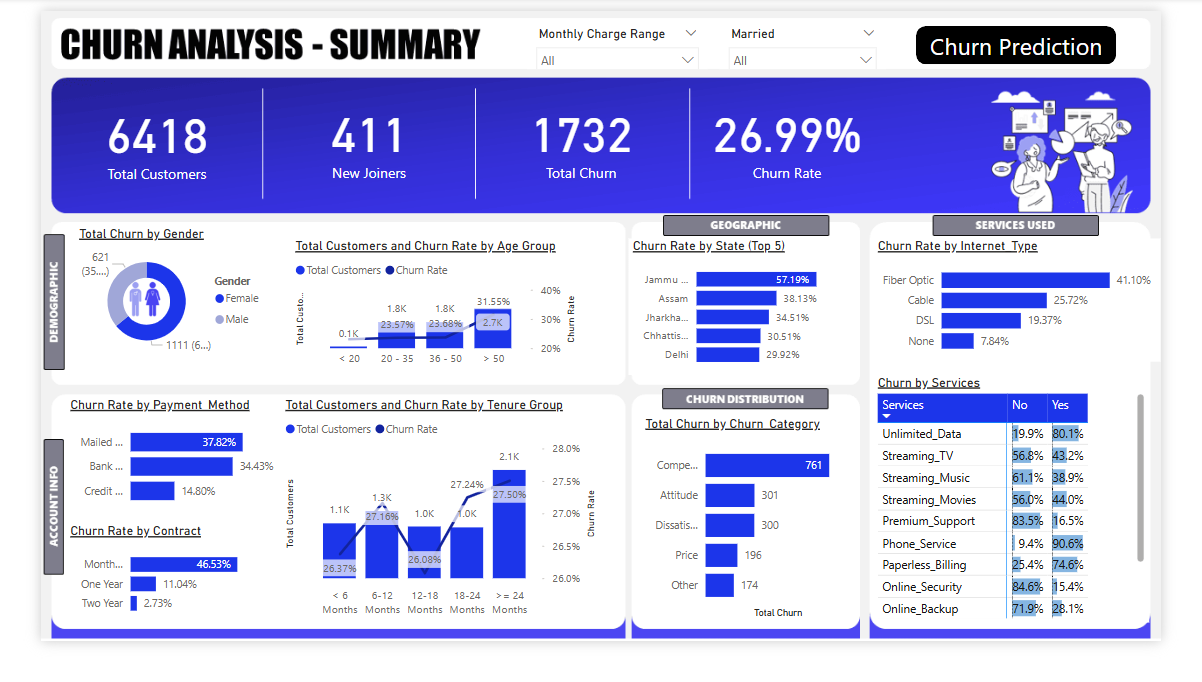

What the dashboard file says about the page in this screenshot:
{"tool":"powerbi","page":{"name":"Summary","canvas":[1280,720],"ordinal":0},"visuals":[{"type":"card","fields":{"Values":["tbl_measures.Total Customers"]},"box":[12.1,70,242.5,155.6],"z":3000},{"type":"card","fields":{"Values":["tbl_measures.New Joiners"]},"box":[254.6,74.8,241.3,144.8],"z":4000},{"type":"card","fields":{"Values":["tbl_measures.Total Churn"]},"box":[495.8,74.8,243.7,144.8],"z":5000},{"type":"donutChart","fields":{"Category":["prod_Churn.Gender"],"Y":["tbl_measures.Total Churn"]},"box":[38.6,246.1,225.6,155.6],"z":5500},{"type":"card","fields":{"Values":["tbl_measures.Churn Rate"]},"box":[739.5,74.8,225.6,144.8],"z":6000},{"type":"lineStackedColumnComboChart","fields":{"Category":["mapping_AgeGrp.Age Group"],"Y":["tbl_measures.Total Customers"],"Y2":["tbl_measures.Churn Rate"]},"box":[285.9,260.6,331.8,155.6],"z":8000},{"type":"clusteredBarChart","fields":{"Category":["prod_Churn.Payment_Method"],"Y":["tbl_measures.Churn Rate"]},"box":[29,441.6,244.9,135.1],"z":9000},{"type":"clusteredBarChart","fields":{"Category":["prod_Churn.Contract"],"Y":["tbl_measures.Churn Rate"]},"box":[29,585.1,244.9,114.6],"z":10000},{"type":"lineStackedColumnComboChart","fields":{"Category":["mapping_TenureGrp.Tenure Group"],"Y":["tbl_measures.Total Customers"],"Y2":["tbl_measures.Churn Rate"]},"box":[273.9,441.6,365.6,258.2],"z":11000},{"type":"clusteredBarChart","title":"Churn Rate by State (Top 5)","fields":{"Category":["prod_Churn.State"],"Y":["tbl_measures.Churn Rate"]},"box":[672,260.6,258.2,155.6],"z":12000},{"type":"clusteredBarChart","fields":{"Category":["prod_Churn.Churn_Category"],"Y":["tbl_measures.Total Churn"]},"box":[685.3,463.3,244.9,236.5],"z":13000},{"type":"clusteredBarChart","fields":{"Category":["prod_Churn.Internet_Type"],"Y":["tbl_measures.Churn Rate"]},"box":[951.9,260.6,328.2,141.2],"z":14000},{"type":"pivotTable","title":"Churn by Services","fields":{"Rows":["prod_Services.Services"],"Columns":["prod_Services.Status"],"Values":["Sum(prod_Services.Churn Status)"]},"box":[951.9,416.2,314.9,283.5],"z":15000},{"type":"slicer","fields":{"Values":["prod_Churn.Monthly Charge Status"]},"box":[555.7,12.3,205.8,53.5],"z":16000},{"type":"image","box":[85.7,299.2,66.4,60.3],"z":16500},{"type":"slicer","fields":{"Values":["prod_Churn.Married"]},"box":[775.3,12.3,189.4,53.5],"z":17000},{"type":"shape","box":[1000.3,17.8,229.2,43.9],"z":17001}]}

Visuals, with their boxes in screenshot pixels (x1, y1, x2, y2), scaled from the page's 1280x720 canvas onto the 1202x682 screenshot:
card - tbl_measures.Total Customers: x1=11, y1=66, x2=239, y2=214
card - tbl_measures.New Joiners: x1=239, y1=71, x2=466, y2=208
card - tbl_measures.Total Churn: x1=466, y1=71, x2=694, y2=208
donutChart - prod_Churn.Gender x tbl_measures.Total Churn: x1=36, y1=233, x2=248, y2=380
card - tbl_measures.Churn Rate: x1=694, y1=71, x2=906, y2=208
lineStackedColumnComboChart - mapping_AgeGrp.Age Group x tbl_measures.Total Customers: x1=268, y1=247, x2=580, y2=394
clusteredBarChart - prod_Churn.Payment_Method x tbl_measures.Churn Rate: x1=27, y1=418, x2=257, y2=546
clusteredBarChart - prod_Churn.Contract x tbl_measures.Churn Rate: x1=27, y1=554, x2=257, y2=663
lineStackedColumnComboChart - mapping_TenureGrp.Tenure Group x tbl_measures.Total Customers: x1=257, y1=418, x2=601, y2=663
"Churn Rate by State (Top 5)" clusteredBarChart: x1=631, y1=247, x2=874, y2=394
clusteredBarChart - prod_Churn.Churn_Category x tbl_measures.Total Churn: x1=644, y1=439, x2=874, y2=663
clusteredBarChart - prod_Churn.Internet_Type x tbl_measures.Churn Rate: x1=894, y1=247, x2=1201, y2=381
"Churn by Services" pivotTable: x1=894, y1=394, x2=1190, y2=663
slicer - prod_Churn.Monthly Charge Status: x1=522, y1=12, x2=715, y2=62
image: x1=80, y1=283, x2=143, y2=341
slicer - prod_Churn.Married: x1=728, y1=12, x2=906, y2=62
shape: x1=939, y1=17, x2=1155, y2=58
